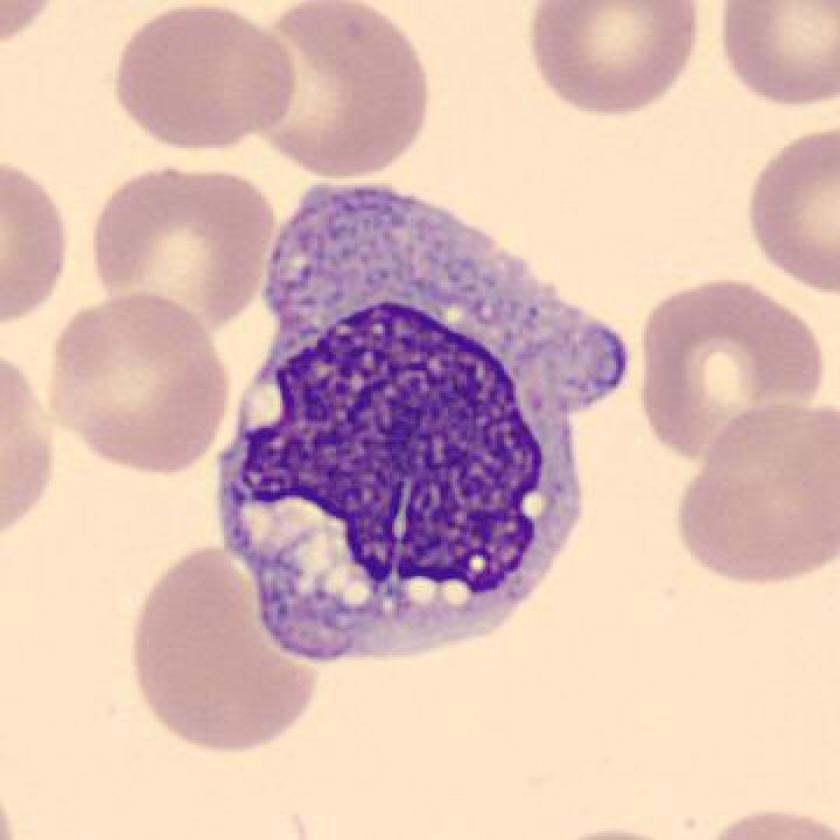monocyte: (197, 170, 654, 688)
